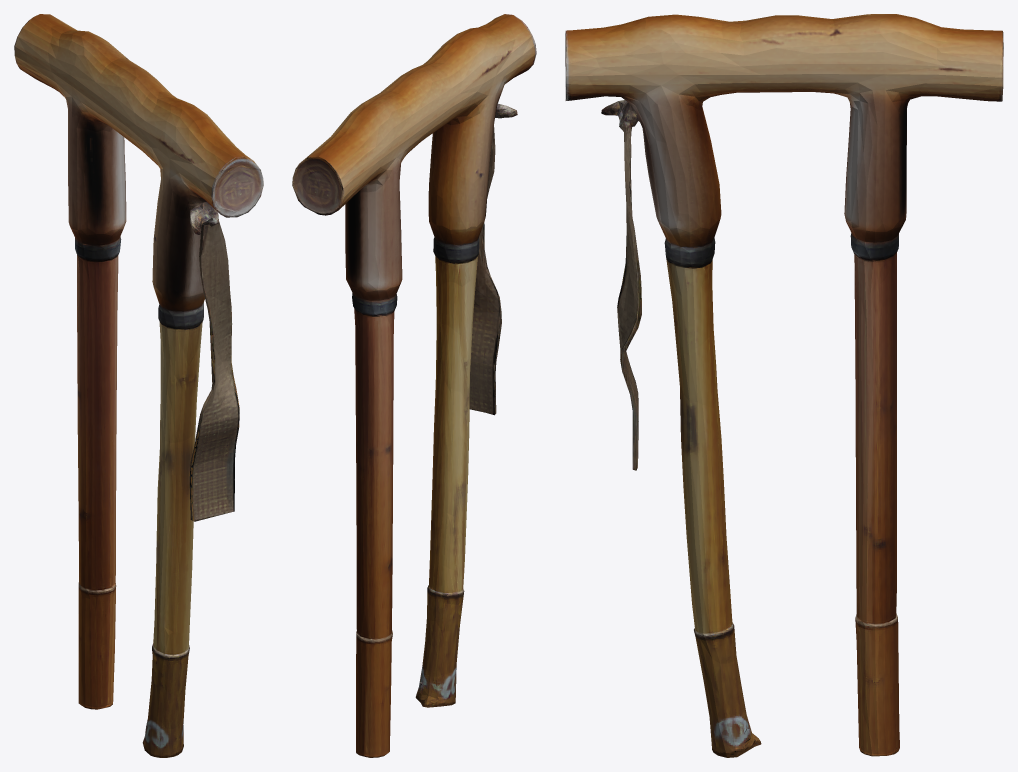
The model's file is bamboo-trekking-poles-rustic.jpeg.glb.
The picture shows the model from 3 angles, left to right: view 1: azimuth 30°, elevation 25°; view 2: azimuth 150°, elevation 25°; view 3: azimuth 270°, elevation 25°; orthographic projection. The views are drawn at different scales.
Visible parts, largest first — view 1: world; view 2: world; view 3: world.
Boxes of the visible parts, bbox=[...] form: world: bbox=[14, 14, 263, 757]; world: bbox=[292, 14, 536, 757]; world: bbox=[565, 14, 1003, 757].
Size of the model in its own units: 0.0867 by 1 by 0.5427.
1 material, 1 textured.
